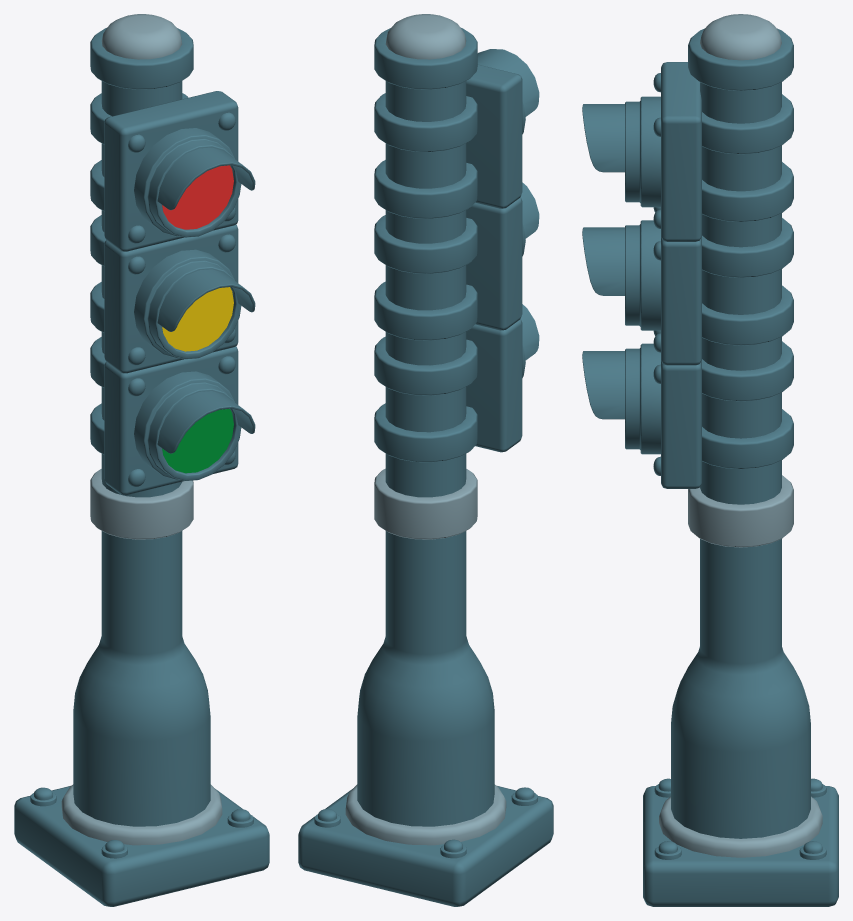
Rendered from City_7_Traffic_Light_1.glb.
The picture shows the model from 3 angles, left to right: view 1: azimuth 30°, elevation 25°; view 2: azimuth 150°, elevation 25°; view 3: azimuth 270°, elevation 25°; orthographic projection.
Visible parts, largest first — view 1: City_7_Traffic_Light_1; view 2: City_7_Traffic_Light_1; view 3: City_7_Traffic_Light_1.
Boxes of the visible parts, x1,y1,x2,y2 form: City_7_Traffic_Light_1: (14, 14, 269, 906); City_7_Traffic_Light_1: (298, 14, 553, 906); City_7_Traffic_Light_1: (582, 14, 838, 906).
Size of the model in its own units: 1.2 by 5.69 by 1.57.
Materials: 1 (1 with a texture image).
